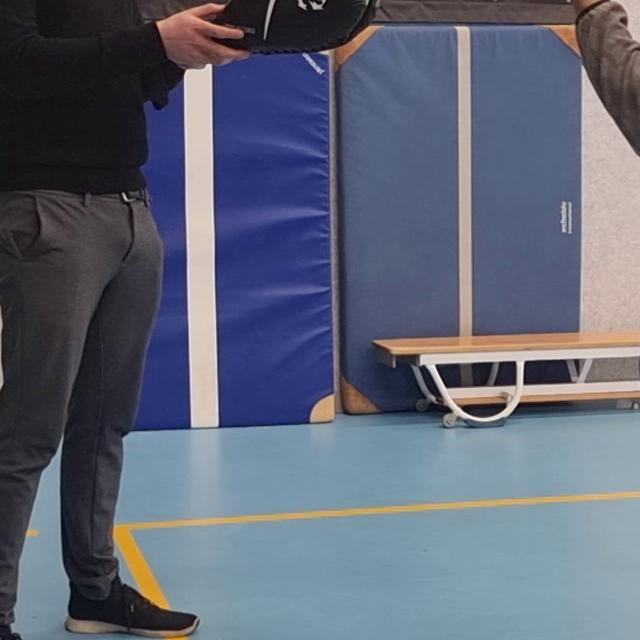paddle: (208, 0, 385, 51)
